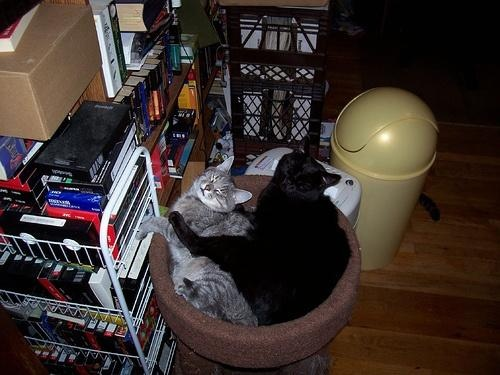cat: (173, 151, 355, 333), (137, 163, 266, 329)
